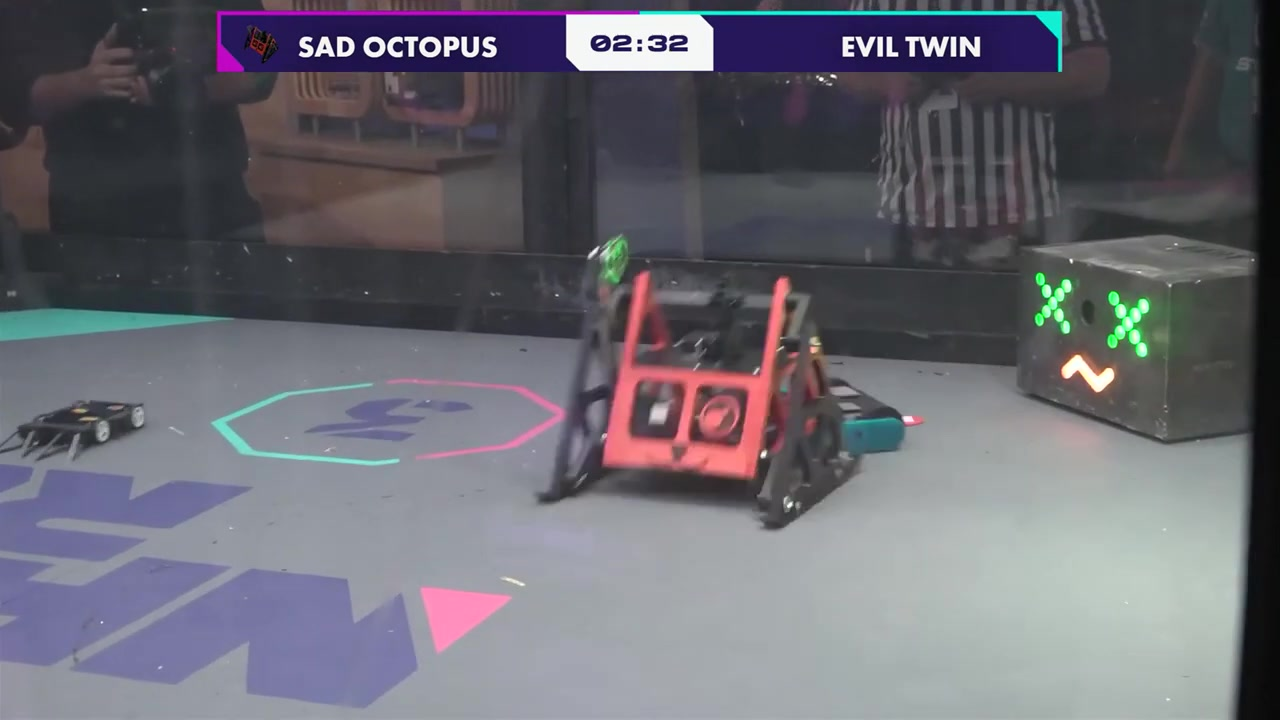combatbot: (540, 324, 860, 532), (8, 399, 148, 465), (831, 371, 904, 455)
housebot: (1014, 232, 1255, 444)
